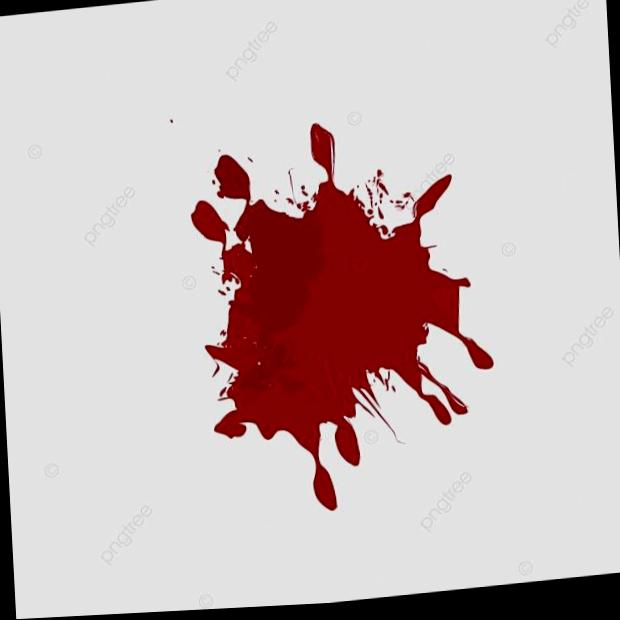Fire: (190, 125, 493, 514)
